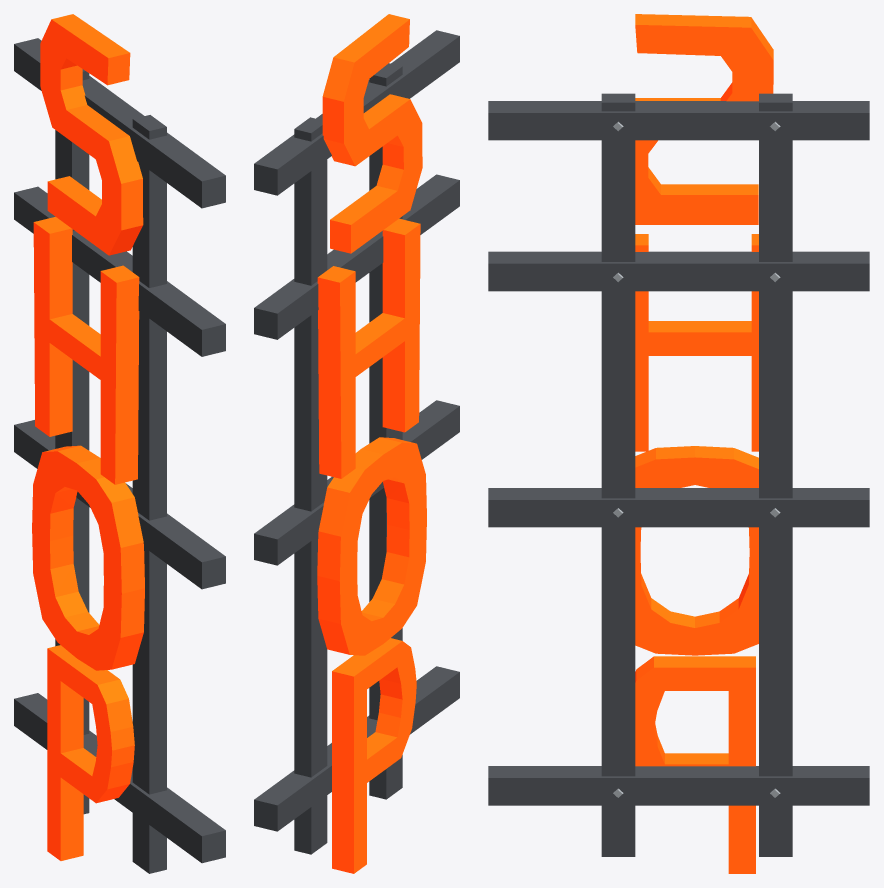
Rendered from SM_Hoarding_03_B.fbx.
The picture shows the model from 3 angles, left to right: view 1: azimuth 30°, elevation 25°; view 2: azimuth 150°, elevation 25°; view 3: azimuth 270°, elevation 25°; orthographic projection. The views are drawn at different scales.
Visible parts, largest first — view 1: SM_Hoarding_03_B_LOD0; view 2: SM_Hoarding_03_B_LOD0; view 3: SM_Hoarding_03_B_LOD0.
Part boxes in pixels (x1,y1,x2,y2): SM_Hoarding_03_B_LOD0: (14,14,225,873); SM_Hoarding_03_B_LOD0: (254,14,459,873); SM_Hoarding_03_B_LOD0: (488,14,869,873).
Size of the model in its own units: 46.14 by 308 by 756.
1 material, 1 textured.
